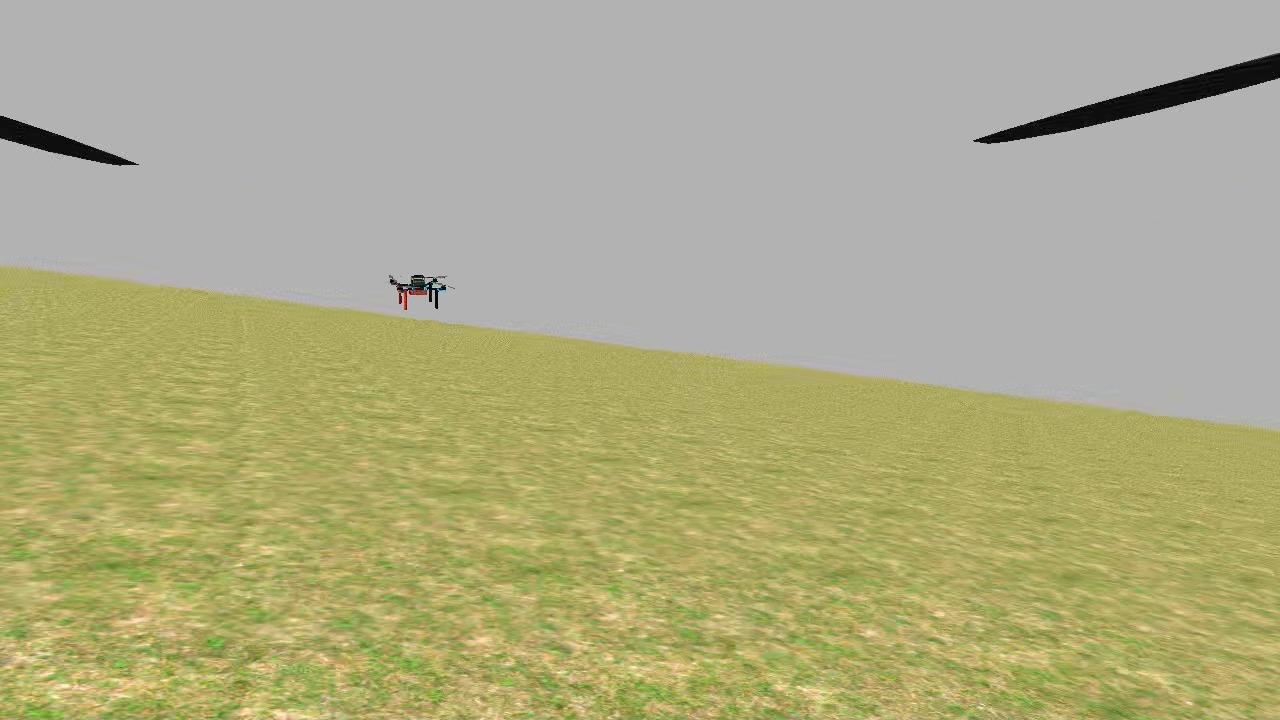UAV: (378, 262, 462, 315)
